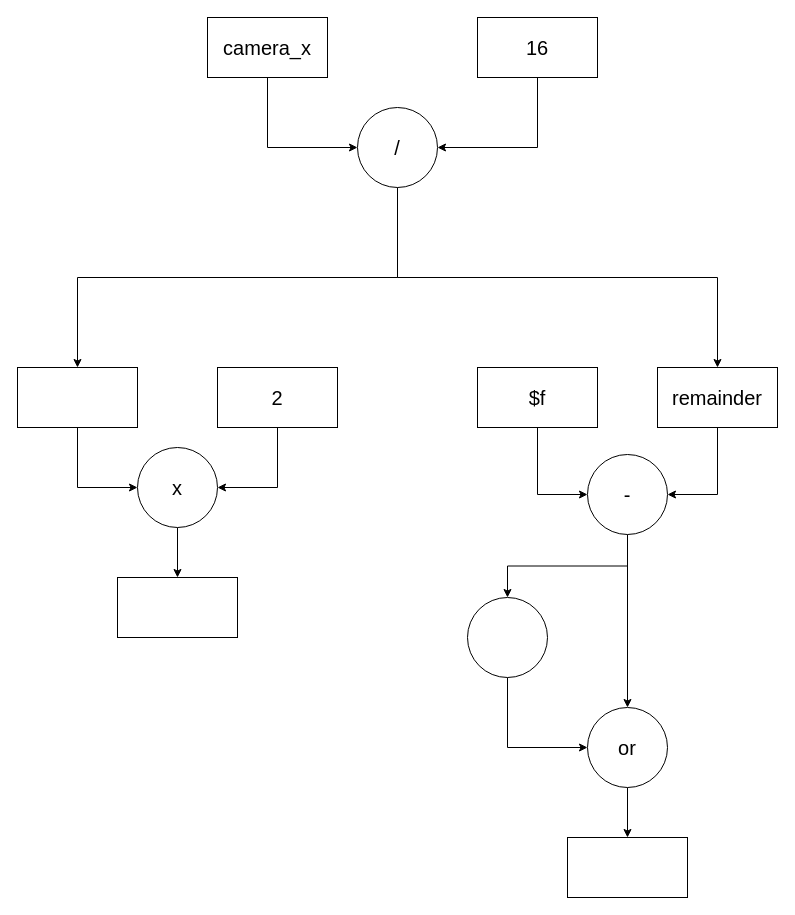
This 795x915 diagram has some shape labels left out. Each missing label, with the centre of its shape:
lshift 4: [507,637]
offset_x: [177,607]
quotient: [77,397]
scroll_x: [627,867]
